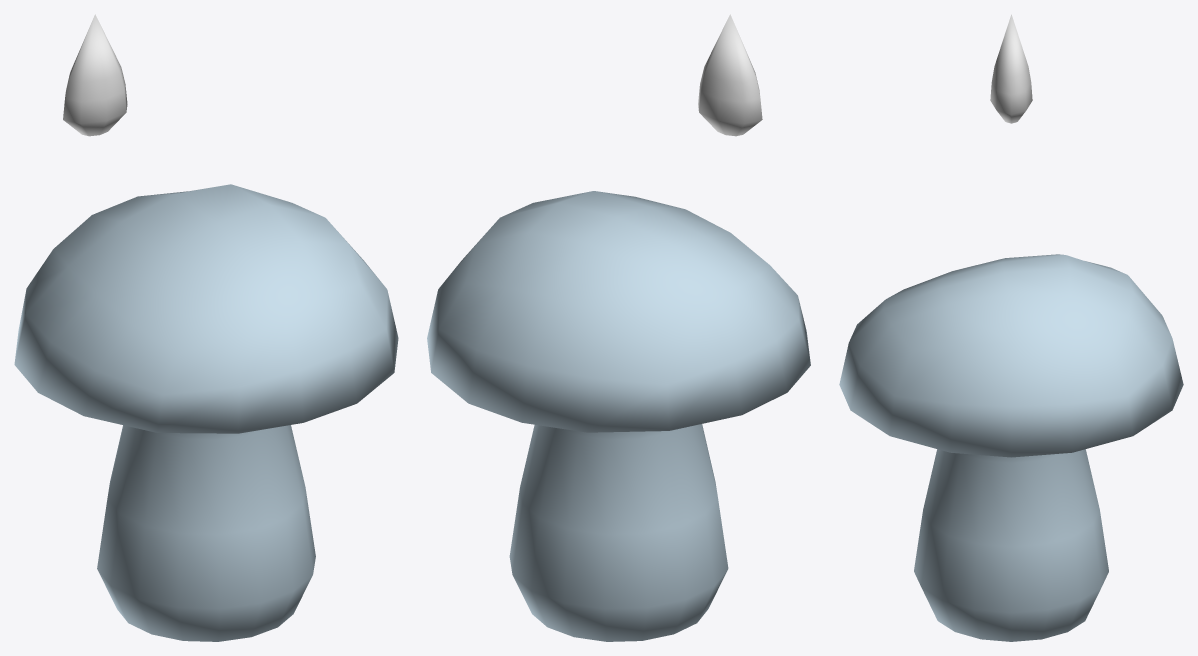
The model's file is mushroom1.fbx.
3 renders of one model, left to right at view 1: azimuth 30°, elevation 25°; view 2: azimuth 150°, elevation 25°; view 3: azimuth 270°, elevation 25°, orthographic. The views are drawn at different scales.
Parts seen in each view (by area): view 1: Mushroom, Drop; view 2: Mushroom, Drop; view 3: Mushroom, Drop.
Part boxes in pixels (left/top/right/bottom): Mushroom: left=14, top=184, right=398, bottom=641; Drop: left=63, top=14, right=127, bottom=136; Mushroom: left=427, top=191, right=810, bottom=641; Drop: left=698, top=14, right=762, bottom=136; Mushroom: left=839, top=254, right=1183, bottom=641; Drop: left=990, top=14, right=1032, bottom=123.
Size of the model in its own units: 73.58 by 132 by 73.58.
